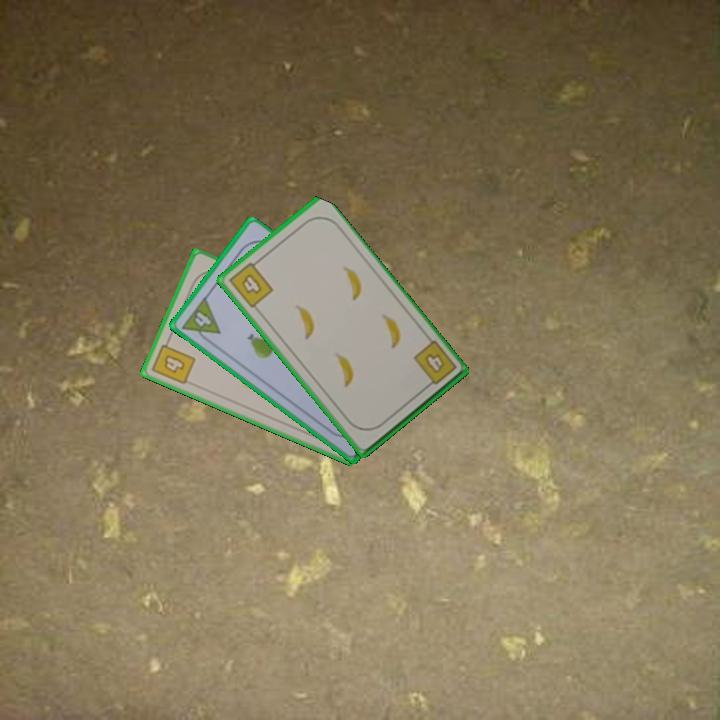4b: (225, 256, 276, 311), (409, 337, 459, 392), (148, 334, 198, 388)
4p: (178, 293, 223, 348)
